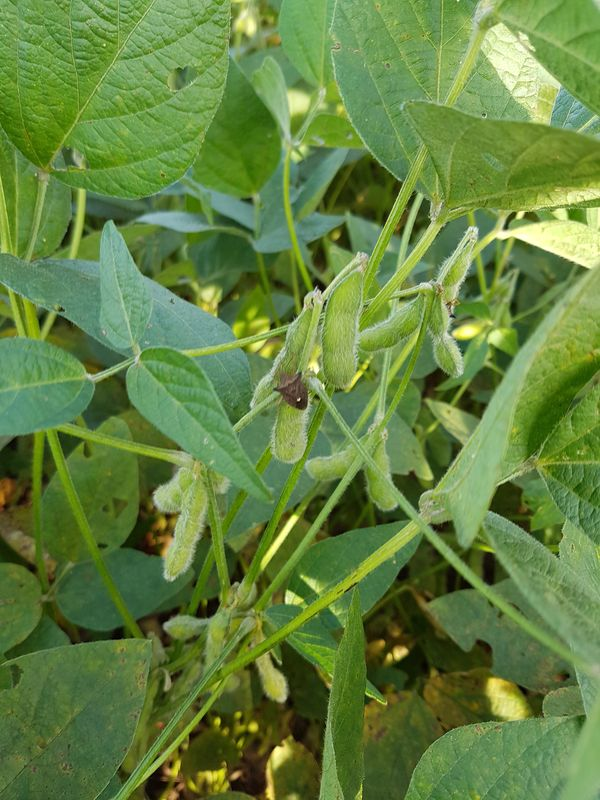Euschistus_heros_adulto: (265, 363, 316, 416)
